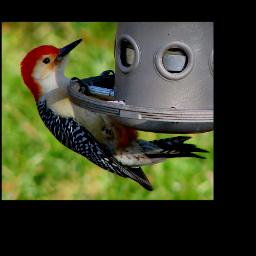Woodpecker: (20, 39, 209, 192)
